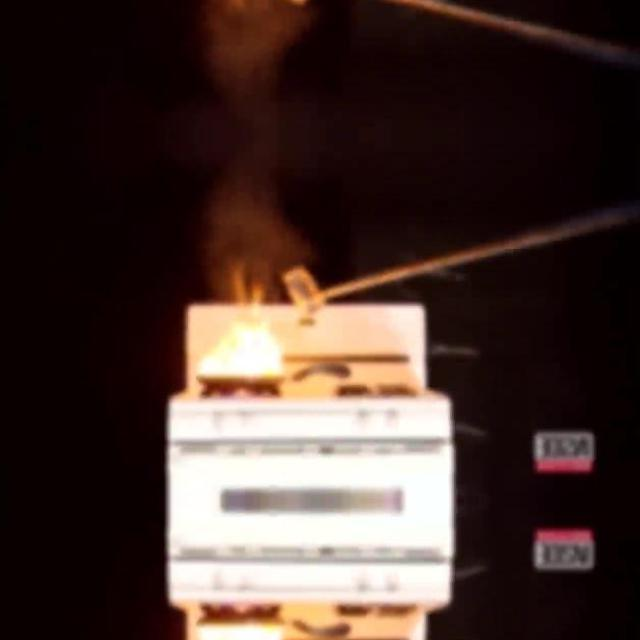smoke: (196, 260, 283, 376)
